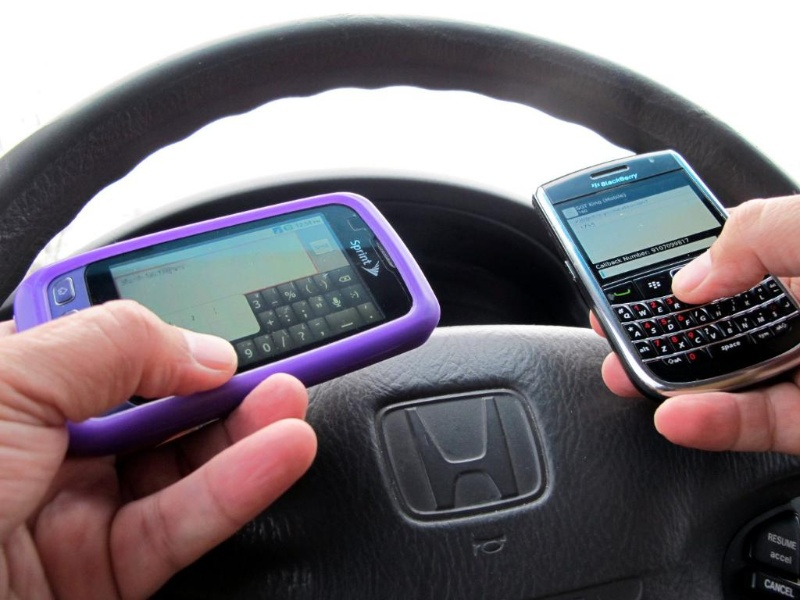cellphone: (1, 196, 430, 436), (522, 152, 800, 403)
